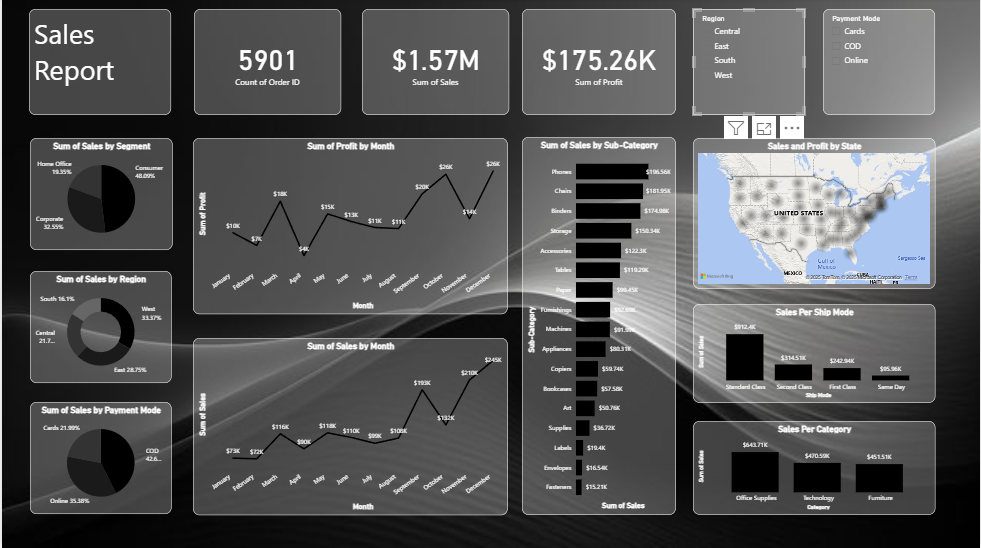

What the dashboard file says about the page in this screenshot:
{"tool":"powerbi","page":{"name":"Page 1","canvas":[1920,1080],"ordinal":0},"visuals":[{"type":"textbox","box":[53,21.6,278.8,208.1],"z":0},{"type":"card","fields":{"Values":["CountNonNull(SuperStore_Sales_Dataset.Order ID)"]},"box":[377,21.6,288.7,208.1],"z":1000},{"type":"card","fields":{"Values":["Sum(SuperStore_Sales_Dataset.Sales)"]},"box":[706.9,21.6,288.7,208.1],"z":2000},{"type":"card","fields":{"Values":["Sum(SuperStore_Sales_Dataset.Profit)"]},"box":[1022,22,302,208],"z":3000},{"type":"slicer","fields":{"Values":["SuperStore_Sales_Dataset.Payment Mode"]},"box":[1612.1,21.6,219.9,208.1],"z":4000},{"type":"slicer","fields":{"Values":["SuperStore_Sales_Dataset.Region"]},"box":[1356.9,21.6,219.9,208.1],"z":5000},{"type":"pieChart","fields":{"Y":["Sum(SuperStore_Sales_Dataset.Sales)"],"Category":["SuperStore_Sales_Dataset.Payment Mode"]},"box":[54,794,278,220],"z":6000},{"type":"donutChart","fields":{"Y":["Sum(SuperStore_Sales_Dataset.Sales)"],"Category":["SuperStore_Sales_Dataset.Region"]},"box":[54,536,278,220],"z":7000},{"type":"pieChart","fields":{"Y":["Sum(SuperStore_Sales_Dataset.Sales)"],"Category":["SuperStore_Sales_Dataset.Segment"]},"box":[54,274,280,220],"z":8000},{"type":"lineChart","fields":{"Y":["Sum(SuperStore_Sales_Dataset.Sales)"],"Category":["SuperStore_Sales_Dataset.Order Date.Variation.Date Hierarchy.Month"]},"box":[376,668,618,348],"z":9000},{"type":"lineChart","fields":{"Category":["SuperStore_Sales_Dataset.Order Date.Variation.Date Hierarchy.Month"],"Y":["Sum(SuperStore_Sales_Dataset.Profit)"]},"box":[376,274,618,346],"z":10000},{"type":"map","title":"Sales and Profit by State","fields":{"Category":["SuperStore_Sales_Dataset.State"]},"box":[1356,274,476,296],"z":11000},{"type":"columnChart","title":"Sales Per Category","fields":{"Y":["Sum(SuperStore_Sales_Dataset.Sales)"],"Category":["SuperStore_Sales_Dataset.Category"]},"box":[1356,830,476,184],"z":12000},{"type":"barChart","fields":{"Y":["Sum(SuperStore_Sales_Dataset.Sales)"],"Category":["SuperStore_Sales_Dataset.Sub-Category"]},"box":[1022,272,302,742],"z":13000},{"type":"columnChart","title":"Sales Per Ship Mode","fields":{"Y":["Sum(SuperStore_Sales_Dataset.Sales)"],"Category":["SuperStore_Sales_Dataset.Ship Mode"]},"box":[1356,600,476,194],"z":14000}]}

Visuals, with their boxes in screenshot pixels (x1, y1, x2, y2), scaled from the page's 1920x1080 canvas onto the 981x548 screenshot:
textbox: (27, 11, 170, 117)
card - CountNonNull(SuperStore_Sales_Dataset.Order ID): (193, 11, 340, 117)
card - Sum(SuperStore_Sales_Dataset.Sales): (361, 11, 509, 117)
card - Sum(SuperStore_Sales_Dataset.Profit): (522, 11, 676, 117)
slicer - SuperStore_Sales_Dataset.Payment Mode: (824, 11, 936, 117)
slicer - SuperStore_Sales_Dataset.Region: (693, 11, 806, 117)
pieChart - Sum(SuperStore_Sales_Dataset.Sales) x SuperStore_Sales_Dataset.Payment Mode: (28, 403, 170, 515)
donutChart - Sum(SuperStore_Sales_Dataset.Sales) x SuperStore_Sales_Dataset.Region: (28, 272, 170, 384)
pieChart - Sum(SuperStore_Sales_Dataset.Sales) x SuperStore_Sales_Dataset.Segment: (28, 139, 171, 251)
lineChart - Sum(SuperStore_Sales_Dataset.Sales) x SuperStore_Sales_Dataset.Order Date.Variation.Date Hierarchy.Month: (192, 339, 508, 516)
lineChart - SuperStore_Sales_Dataset.Order Date.Variation.Date Hierarchy.Month x Sum(SuperStore_Sales_Dataset.Profit): (192, 139, 508, 315)
"Sales and Profit by State" map: (693, 139, 936, 289)
"Sales Per Category" columnChart: (693, 421, 936, 515)
barChart - Sum(SuperStore_Sales_Dataset.Sales) x SuperStore_Sales_Dataset.Sub-Category: (522, 138, 676, 515)
"Sales Per Ship Mode" columnChart: (693, 304, 936, 403)
